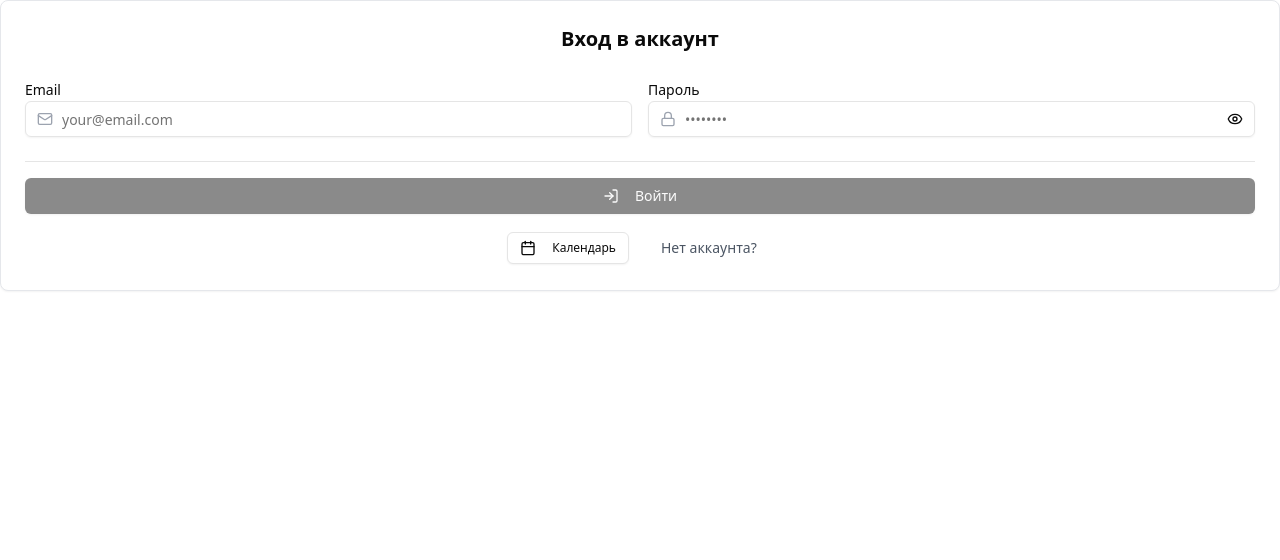
AuthForm — режим регистрации › переключение на регистрацию показывает дополнительные поля
Click the button "Нет аккаунта?".
click(709, 248)  # box [645,230,773,266]
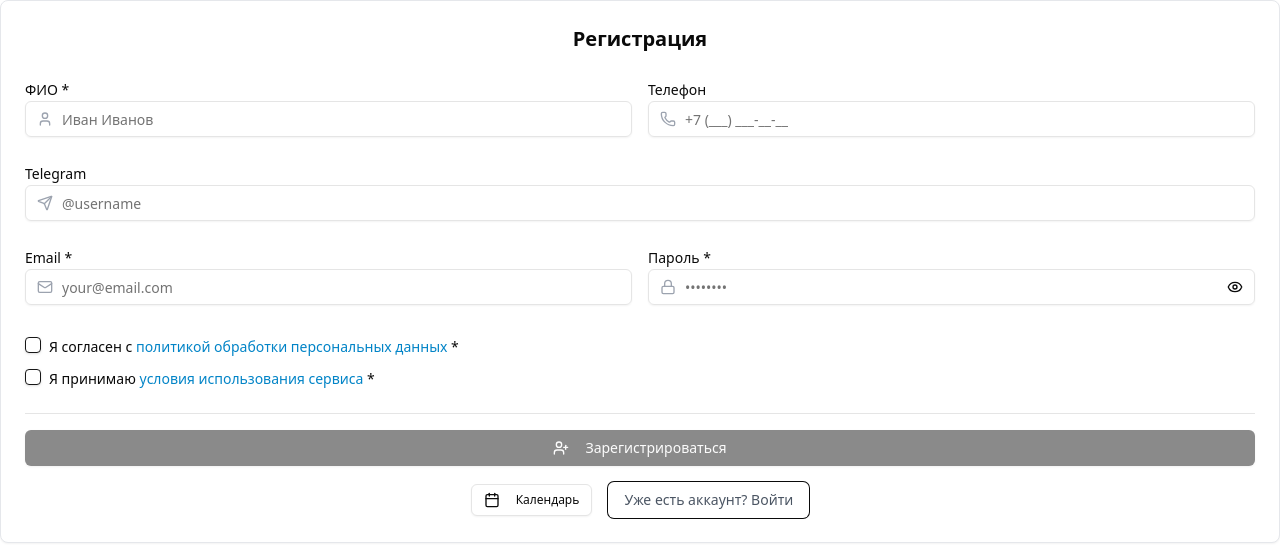
Expected: the heading "Регистрация" is shown, [573,25,707,52]
Expected: the field labelled "ФИО *" is shown, [25,101,632,137]
